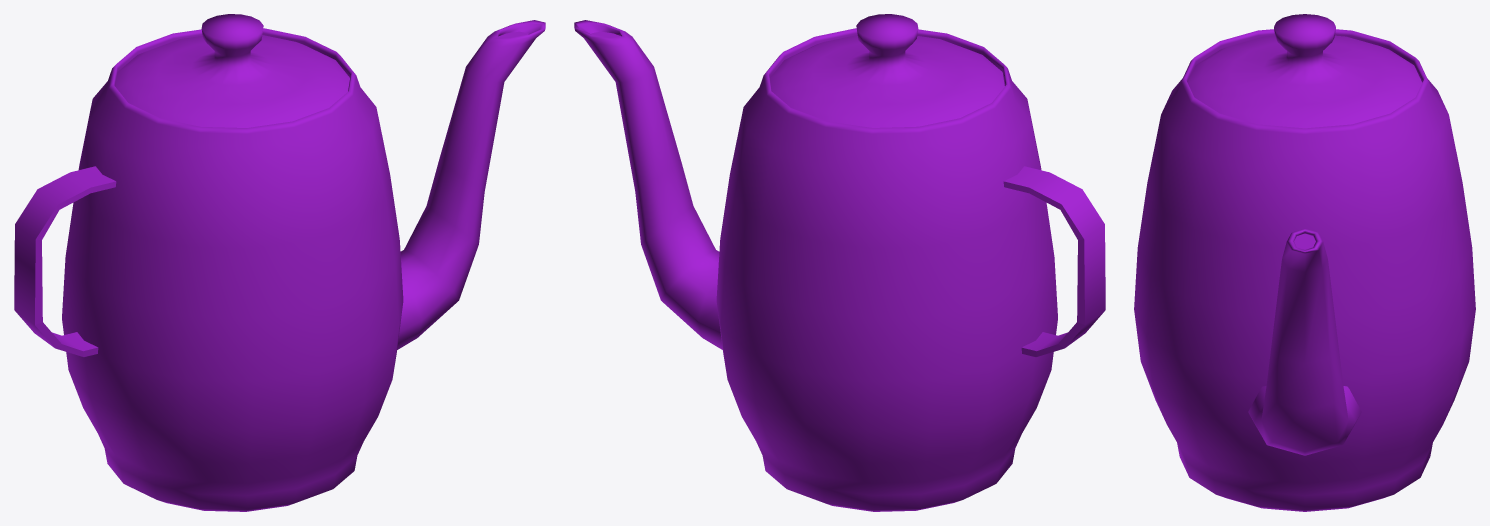
Rendered from shop cont teapot 1 lod0.FBX.
The picture shows the model from 3 angles, left to right: view 1: azimuth 30°, elevation 25°; view 2: azimuth 150°, elevation 25°; view 3: azimuth 270°, elevation 25°; orthographic projection.
Parts seen in each view (by area): view 1: Teapot001; view 2: Teapot001; view 3: Teapot001.
Part boxes in pixels (x1=…): Teapot001: x1=14, y1=14, x2=545, y2=511; Teapot001: x1=574, y1=14, x2=1105, y2=511; Teapot001: x1=1134, y1=14, x2=1475, y2=511.
Bounding box in the file's own units: 0.6163 × 0.5027 × 0.3504.
